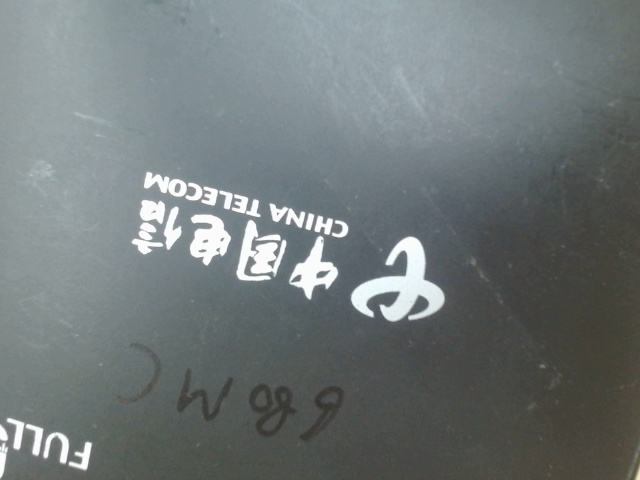AB_ChinaTelecom: (119, 156, 459, 342)
